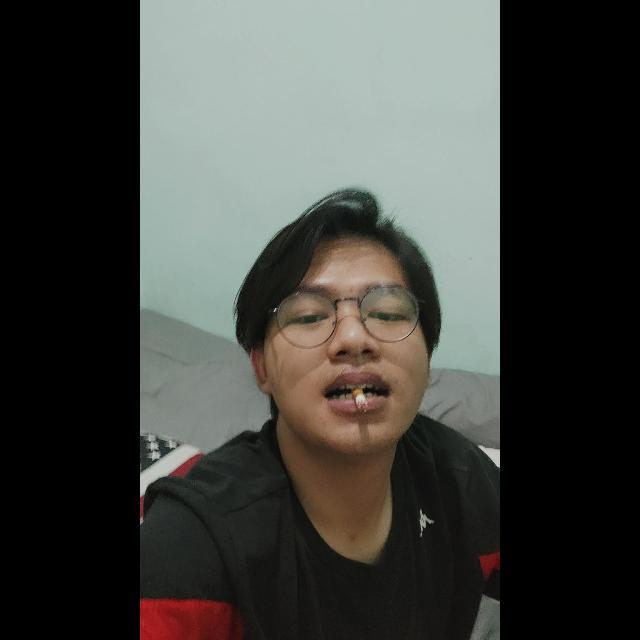rokok: (342, 376, 374, 416)
